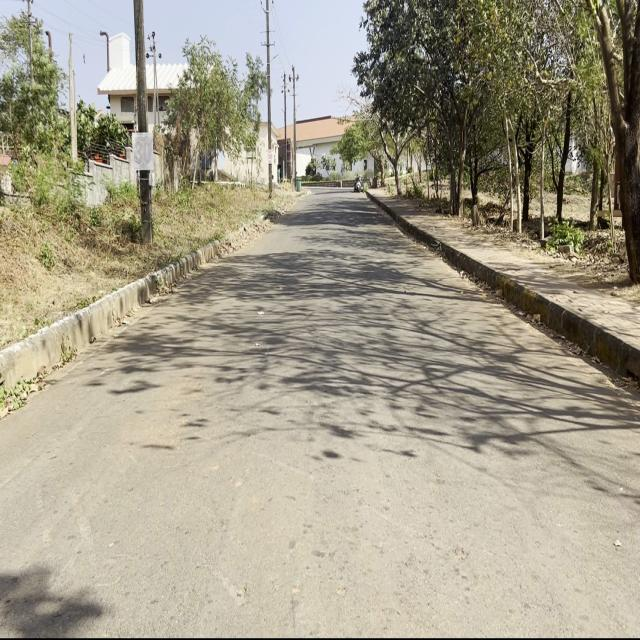Road: (3, 188, 634, 631)
